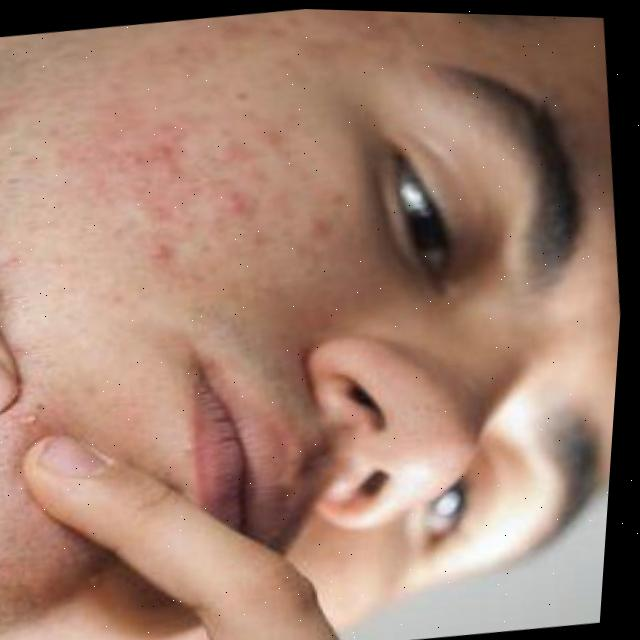Acne: (115, 59, 299, 301)
